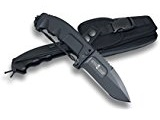knife: (78, 50, 133, 105)
